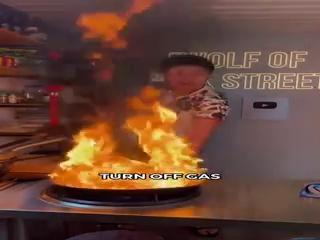Fire: (49, 10, 208, 190)
